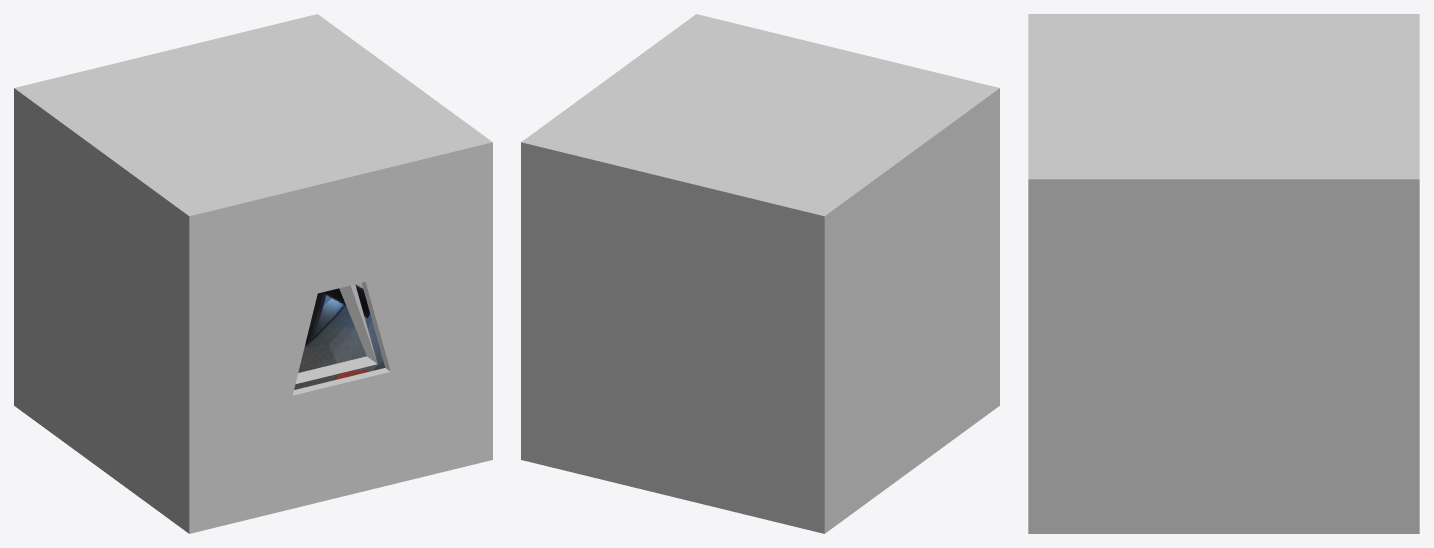
Rendered from 360_sphere_small_1.fbx.
3 renders of one model, left to right at view 1: azimuth 30°, elevation 25°; view 2: azimuth 150°, elevation 25°; view 3: azimuth 270°, elevation 25°, orthographic. The views are drawn at different scales.
Parts seen in each view (by area): view 1: Occlusion_Cube, Globe, Door; view 2: Occlusion_Cube; view 3: Occlusion_Cube.
Part boxes in pixels (x1=…): Occlusion_Cube: x1=14, y1=14, x2=492, y2=533; Globe: x1=294, y1=283, x2=385, y2=389; Door: x1=295, y1=284, x2=377, y2=383; Occlusion_Cube: x1=521, y1=14, x2=999, y2=533; Occlusion_Cube: x1=1028, y1=14, x2=1419, y2=533.
Size of the model in its own units: 620 by 620 by 620.
1 material, 1 textured.
